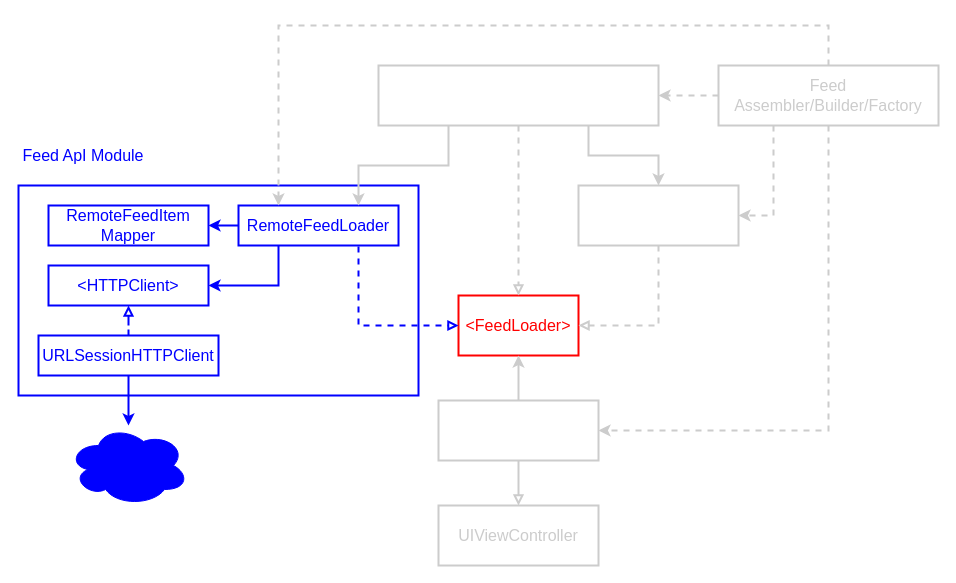
Image size: 956x583. Some labels were removed from this diagram. Each missing label, with the box of its shape:
FeedViewController: (437, 399, 599, 461)
LocalFeedLoader: (577, 184, 739, 246)
RemoteWithLocalFallbackFeedLoader: (377, 64, 659, 126)
